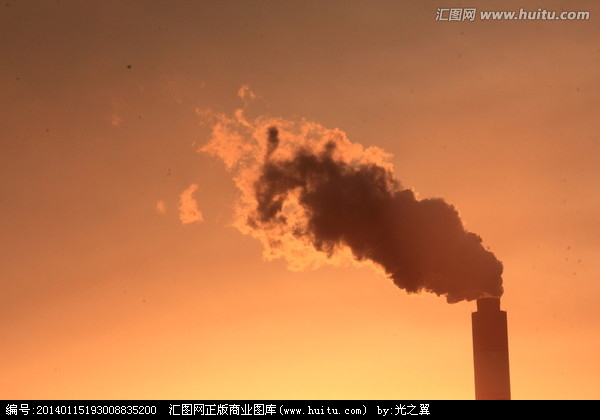dust: (237, 122, 508, 311)
